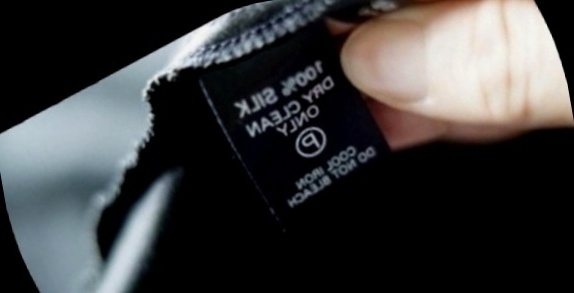dry_clean_any_solvent_except_trichloroethylene: (280, 114, 338, 170)
